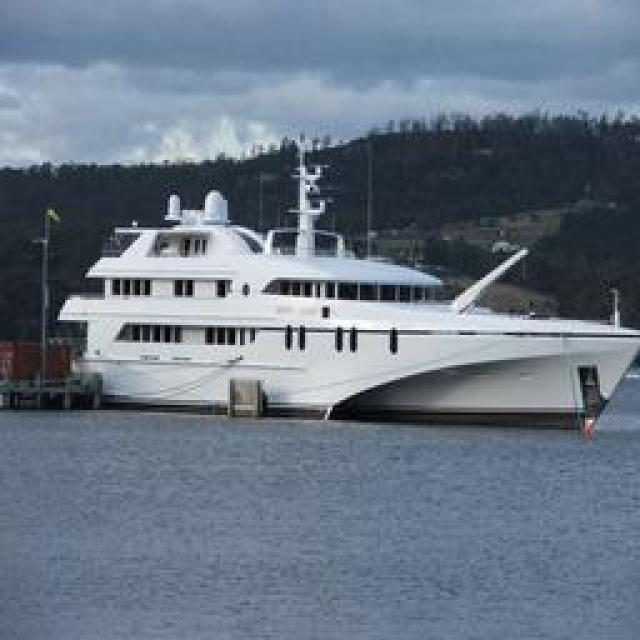CIV_Ship: (82, 186, 630, 429)
